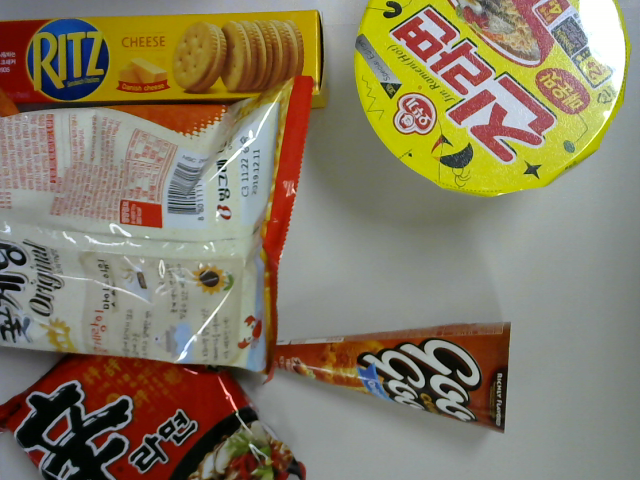Crabrang: (1, 75, 316, 391)
GooGoo_Cone_CVS: (256, 321, 512, 438)
Jinlamyeon_Hot_Taste_Large_Cup: (348, 1, 631, 202)
Ritz_Sand_Cracker: (1, 9, 332, 111)
Sinramen: (1, 353, 307, 480)
